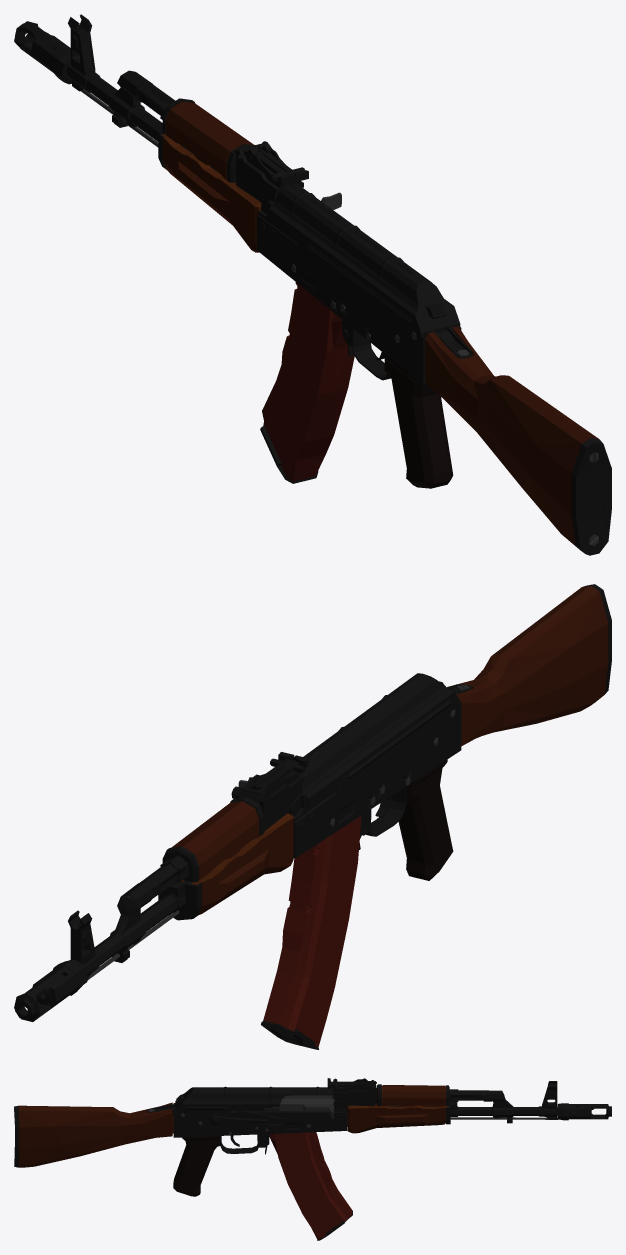
The picture shows the model from 3 angles, top to bottom: view 1: azimuth 30°, elevation 25°; view 2: azimuth 150°, elevation 25°; view 3: azimuth 270°, elevation 25°; orthographic projection. The views are drawn at different scales.
Visible parts, largest first — view 1: stock, receiver, magazine, dust_cover, grip, handguard_lower.001, handguard_upper.001, 6P20_muzzle_brake.001, gas_tube, rear_sight; view 2: receiver, stock, magazine, dust_cover, grip, handguard_lower.001, handguard_upper.001, 6P20_muzzle_brake.001, gas_tube, lower_handguard_cover, rear_sight; view 3: stock, receiver, magazine, dust_cover, handguard_lower.001, grip, handguard_upper.001, safety_selector, bolt_carrier, 6P20_muzzle_brake.001, gas_tube, cleaning_rod (+1 smaller).
Boxes of the visible parts, x1,y1,x2,y2 form: stock: (425, 326, 611, 555); receiver: (66, 14, 473, 385); magazine: (260, 282, 354, 483); dust_cover: (269, 183, 460, 337); grip: (382, 352, 453, 488); handguard_lower.001: (161, 134, 261, 252); handguard_upper.001: (165, 101, 253, 179); 6P20_muzzle_brake.001: (14, 21, 71, 84); gas_tube: (138, 82, 254, 182); rear_sight: (249, 149, 308, 185); receiver: (64, 684, 473, 984); stock: (446, 584, 611, 746); magazine: (261, 815, 361, 1049); dust_cover: (291, 673, 460, 805); grip: (398, 759, 453, 880); handguard_lower.001: (181, 813, 293, 915); handguard_upper.001: (171, 801, 259, 880); 6P20_muzzle_brake.001: (14, 959, 87, 1021); gas_tube: (140, 797, 264, 897); lower_handguard_cover: (158, 881, 201, 920); rear_sight: (252, 752, 308, 790); stock: (14, 1102, 173, 1167); receiver: (146, 1078, 557, 1153); magazine: (269, 1132, 352, 1240); dust_cover: (175, 1086, 333, 1113); handguard_lower.001: (347, 1103, 448, 1133); grip: (173, 1136, 220, 1196); handguard_upper.001: (382, 1085, 445, 1106); safety_selector: (207, 1110, 284, 1126); bolt_carrier: (272, 1091, 502, 1119); 6P20_muzzle_brake.001: (557, 1103, 611, 1120); gas_tube: (375, 1084, 483, 1106); cleaning_rod: (450, 1117, 558, 1119).
Size of the model in its own units: 0.0724 by 0.2722 by 0.9377.
